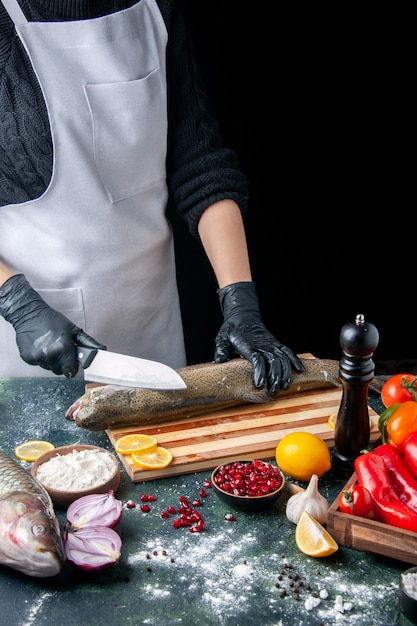knife: (80, 348, 187, 390)
